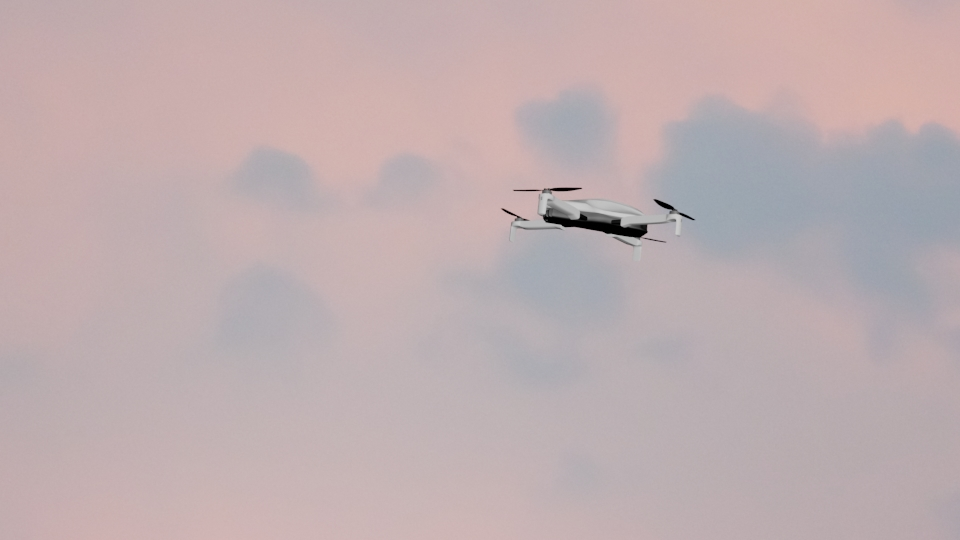drone: (501, 186, 694, 257)
